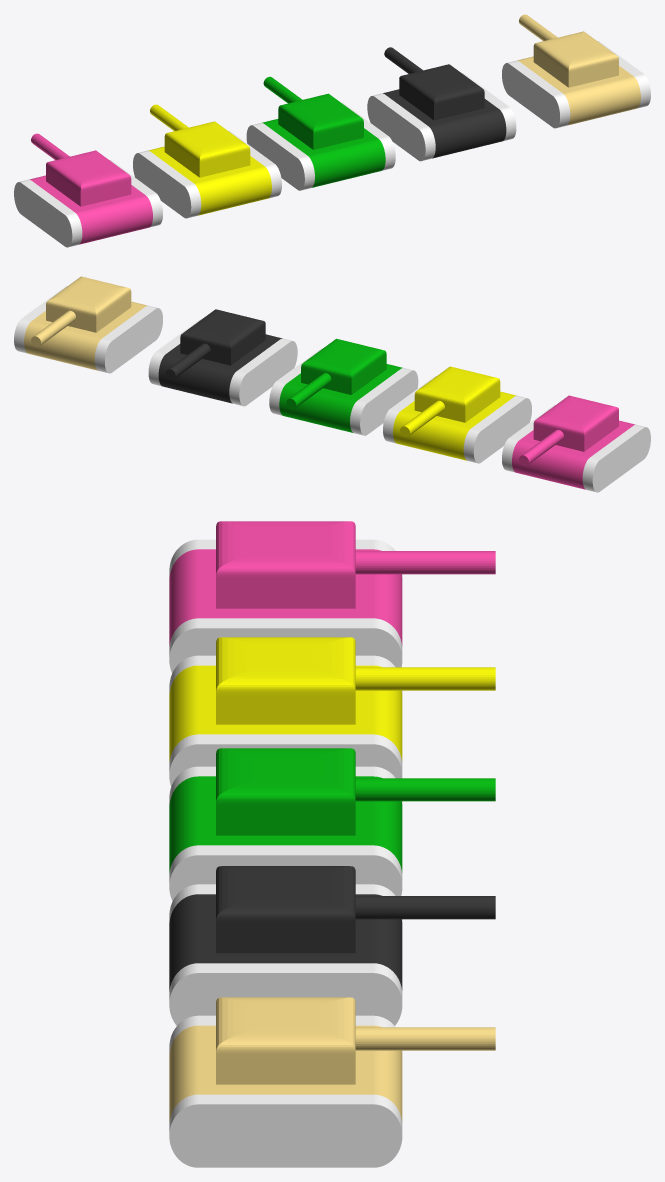
The model's file is tank3.fbx.
3 views of the same model, one above another, from view 1: azimuth 30°, elevation 25°; view 2: azimuth 150°, elevation 25°; view 3: azimuth 270°, elevation 25° (orthographic). The views are drawn at different scales.
Visible parts, largest first — view 1: 立方体.027, bottom, bottom.001, 立方体.024, 立方体.023, Cylinder.008, top.001, Cylinder.007, top, Cylinder.009; view 2: 立方体.027, bottom, bottom.001, 立方体.024, 立方体.023, Cylinder.008, Cylinder.007, top.001, top, Cylinder.009; view 3: bottom, bottom.001, top.001, Cylinder.007, Cylinder.008, Cylinder.009, top, 立方体.023, 立方体.027, 立方体.024.
Boxes of the visible parts, bbox=[...] form: 立方体.027: bbox=[14, 160, 162, 247]; bottom: bbox=[502, 41, 650, 128]; bottom.001: bbox=[367, 73, 516, 161]; 立方体.024: bbox=[133, 131, 281, 218]; 立方体.023: bbox=[246, 103, 395, 190]; Cylinder.008: bbox=[150, 104, 250, 177]; top.001: bbox=[384, 47, 484, 120]; Cylinder.007: bbox=[263, 76, 363, 149]; top: bbox=[519, 14, 618, 87]; Cylinder.009: bbox=[31, 133, 131, 206]; 立方体.027: bbox=[502, 405, 650, 492]; bottom: bbox=[14, 286, 162, 373]; bottom.001: bbox=[148, 318, 297, 406]; 立方体.024: bbox=[383, 376, 531, 463]; 立方体.023: bbox=[269, 348, 418, 435]; Cylinder.008: bbox=[400, 366, 500, 436]; Cylinder.007: bbox=[286, 338, 386, 409]; top.001: bbox=[165, 309, 265, 379]; top: bbox=[31, 276, 131, 346]; Cylinder.009: bbox=[519, 395, 618, 466]; bottom: bbox=[169, 1015, 402, 1167]; bottom.001: bbox=[169, 884, 402, 1025]; top.001: bbox=[216, 866, 495, 953]; Cylinder.007: bbox=[216, 748, 495, 835]; Cylinder.008: bbox=[216, 637, 495, 724]; Cylinder.009: bbox=[216, 521, 495, 608]; top: bbox=[216, 997, 495, 1084]; 立方体.023: bbox=[169, 766, 402, 900]; 立方体.027: bbox=[169, 539, 402, 673]; 立方体.024: bbox=[169, 655, 402, 786].
Bounding box in the file's own units: 1147 × 100 × 280.
